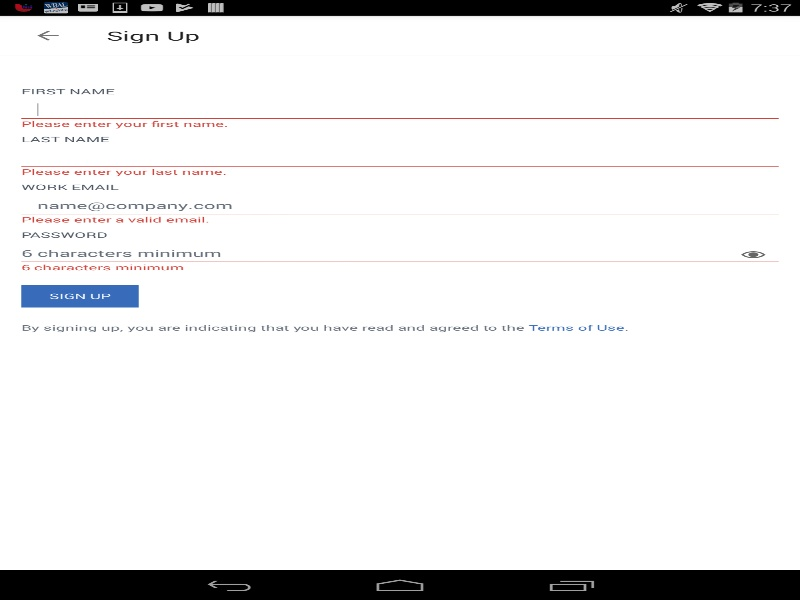Button: (10, 15, 85, 55), (21, 285, 138, 307), (741, 243, 778, 258)
Input: (21, 96, 778, 118), (21, 144, 778, 166), (21, 192, 778, 214), (21, 240, 778, 262)
